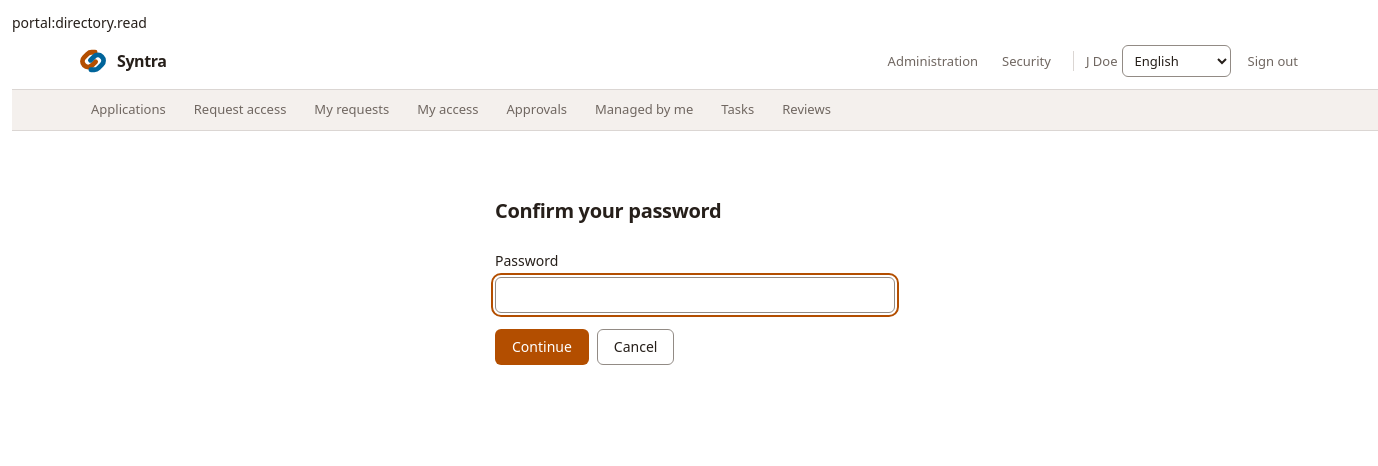
Scenario: Elevate › says a security key is required rather than that the password was wrong
Expected: the text "portal:directory.read" is shown, [12, 13, 147, 32]
Type "secret" into the password field labelled "Password" at point(695, 295), box [495, 277, 895, 313]
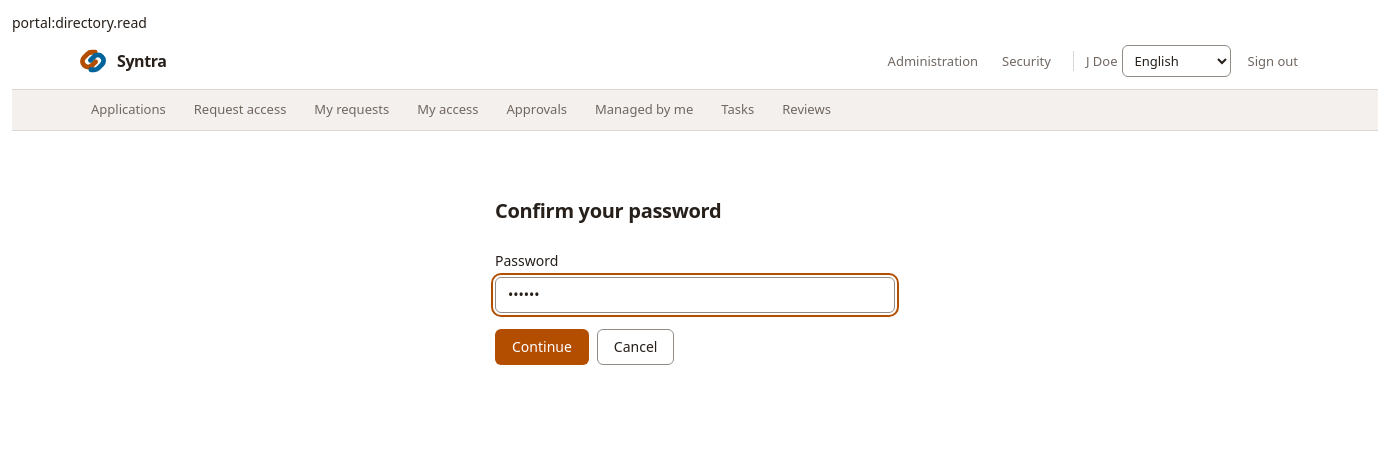
Click the button "Continue" at point(542, 347), box [495, 329, 589, 365]
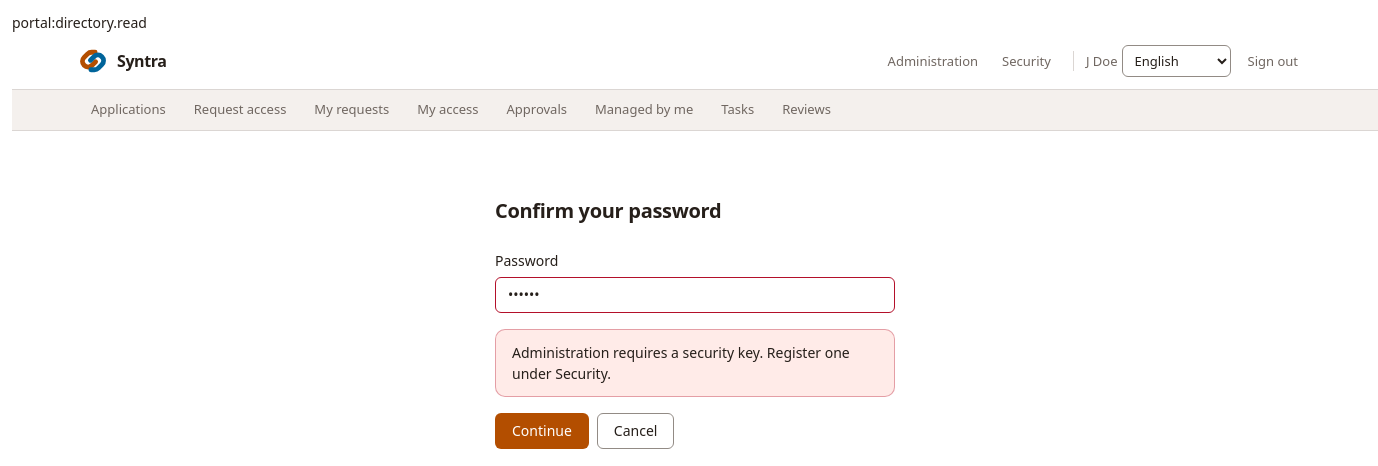
Expected: the message does not show "incorrect", [495, 329, 895, 397]
Expected: the message shows "requires a security key", [512, 343, 850, 383]
